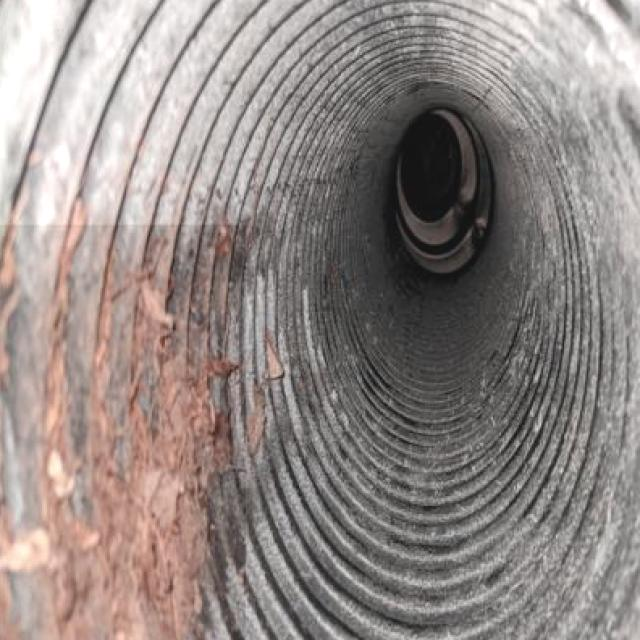dirt: (5, 225, 233, 626)
